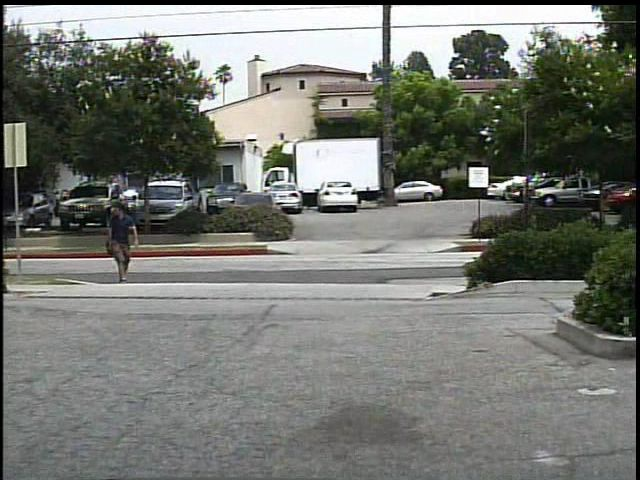person: (104, 199, 143, 284)
